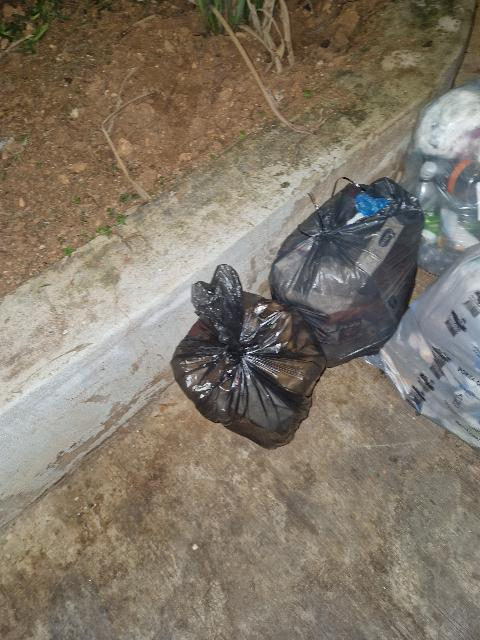Recyclable -Grey-: (269, 178, 423, 366), (171, 265, 326, 448), (368, 244, 480, 450), (406, 81, 480, 273)
